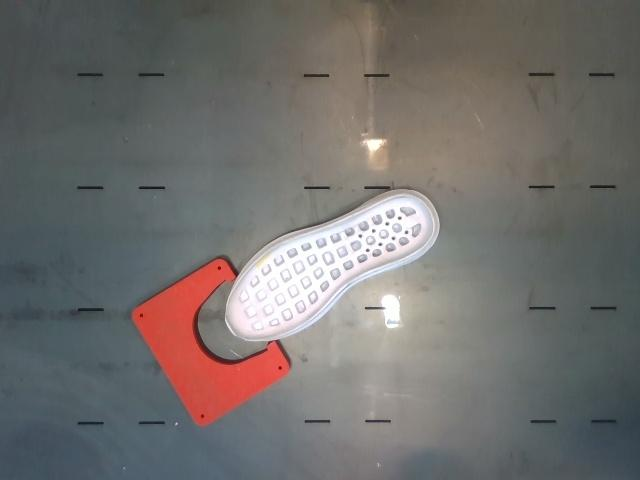shoes: (226, 195, 435, 341)
